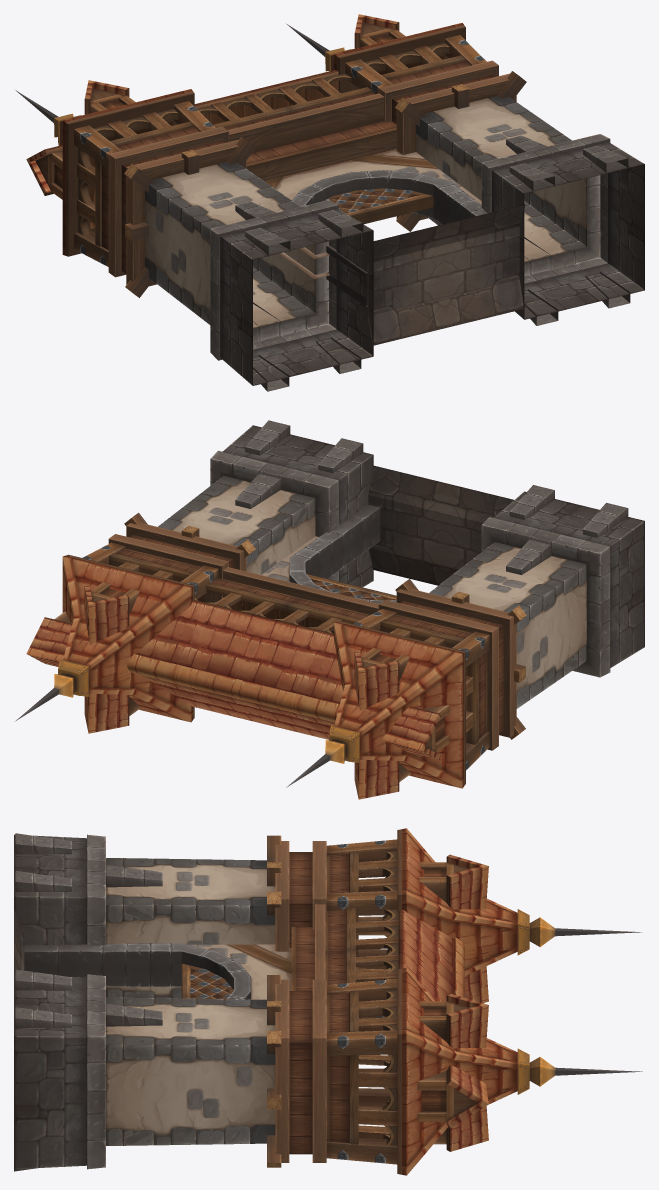
The model's file is Wall_entrance.fbx.
3 views of the same model, one above another, from view 1: azimuth 30°, elevation 25°; view 2: azimuth 150°, elevation 25°; view 3: azimuth 270°, elevation 25° (orthographic). The views are drawn at different scales.
Visible parts, largest first — view 1: Wall_entrance; view 2: Wall_entrance; view 3: Wall_entrance.
Part boxes in pixels (box(x1,y1,x2,y2)): Wall_entrance: box(15, 14, 644, 391); Wall_entrance: box(15, 420, 644, 799); Wall_entrance: box(14, 828, 642, 1175).
Size of what is drawn, in the model's own units: 9.44 by 3.27 by 12.25.
